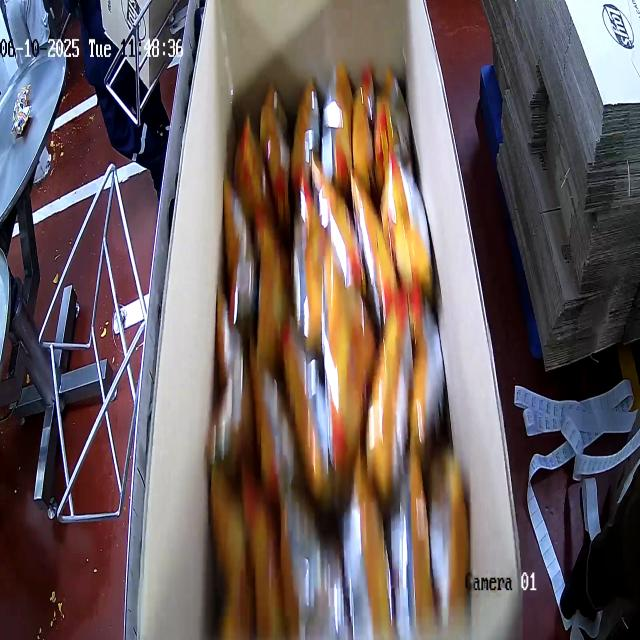FRENCH_CHEESE: (206, 59, 471, 636)
